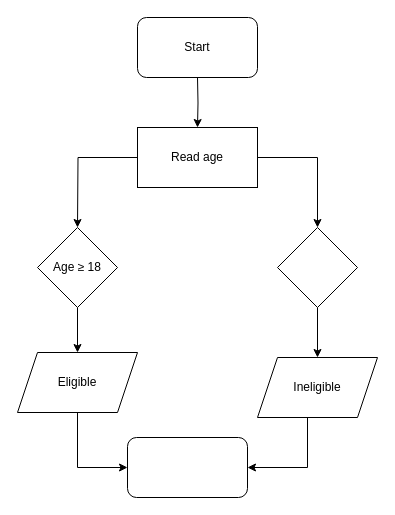
The diagram is 395 pixels wide and 515 high, and some of its shapes have lost their labels. The centre of each missing label's shape, as x and y in pixels:
"Age < 18" goes at [317,267].
"End" goes at [187,467].
